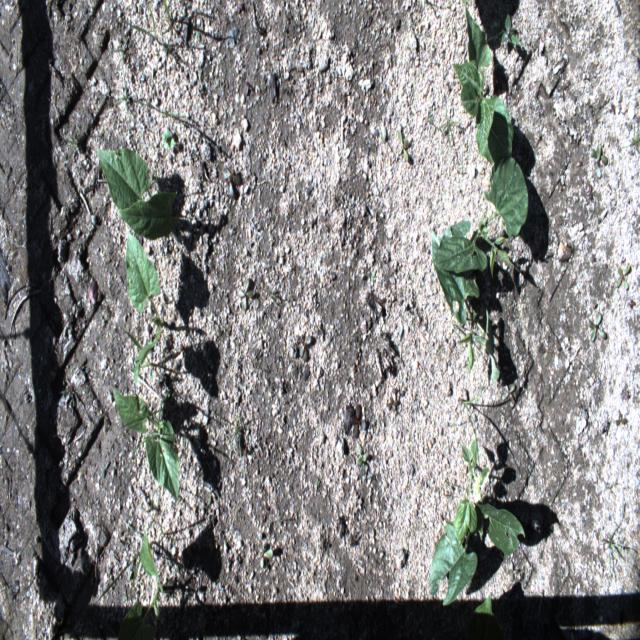crop: (428, 439, 525, 605), (430, 219, 500, 388), (433, 158, 528, 280), (452, 7, 513, 164), (111, 386, 180, 502), (96, 147, 180, 241), (126, 229, 161, 385), (119, 526, 163, 640), (465, 594, 505, 640)
weed: (95, 517, 172, 608), (451, 361, 488, 478), (601, 500, 635, 582), (213, 411, 258, 471), (428, 97, 461, 164), (62, 365, 90, 420), (126, 1, 160, 45), (120, 326, 152, 368), (114, 68, 138, 122), (138, 97, 175, 125), (61, 125, 82, 167), (498, 13, 519, 45), (590, 144, 608, 178), (588, 312, 608, 342), (623, 120, 640, 154), (237, 277, 253, 311), (109, 35, 129, 62), (397, 128, 409, 164), (614, 263, 630, 290), (260, 542, 274, 570), (299, 335, 312, 361), (161, 128, 175, 150), (502, 384, 516, 405), (357, 443, 366, 475), (506, 562, 520, 582), (615, 413, 628, 425), (124, 590, 128, 602), (372, 272, 374, 281)
